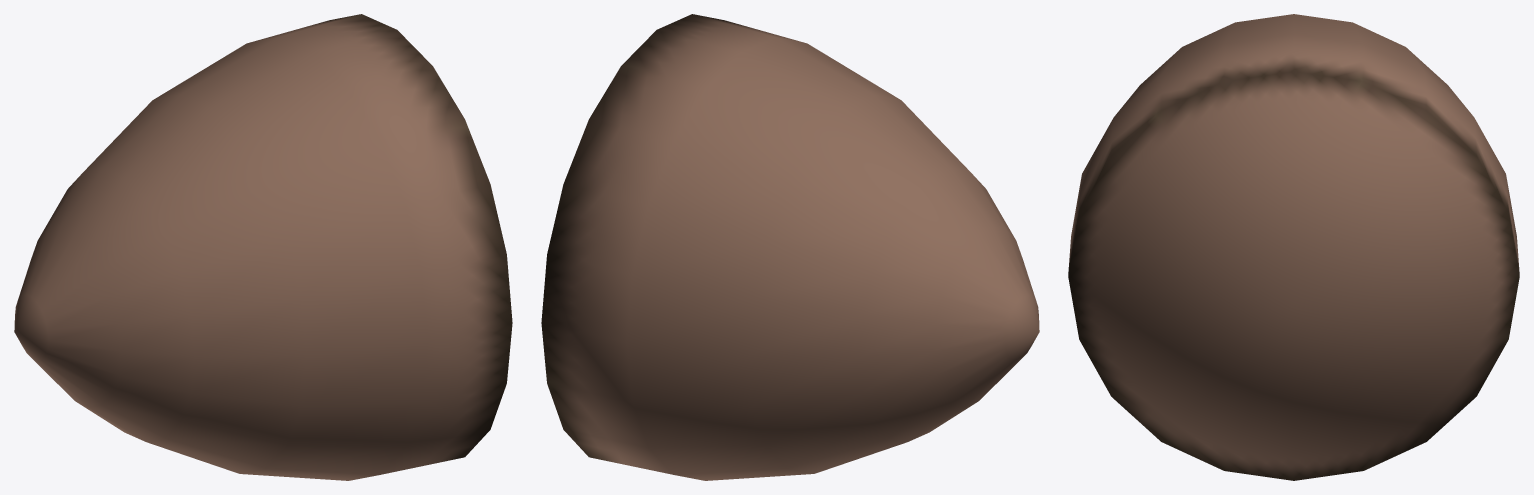
The model's file is sm_projectile_bullet_gun_02.fbx.
3 renders of one model, left to right at view 1: azimuth 30°, elevation 25°; view 2: azimuth 150°, elevation 25°; view 3: azimuth 270°, elevation 25°, orthographic. The views are drawn at different scales.
Visible parts, largest first — view 1: sm_projectile_bullet_gun_02; view 2: sm_projectile_bullet_gun_02; view 3: sm_projectile_bullet_gun_02.
Boxes of the visible parts, x1,y1,x2,y2 form: sm_projectile_bullet_gun_02: [14, 14, 512, 480]; sm_projectile_bullet_gun_02: [541, 14, 1039, 480]; sm_projectile_bullet_gun_02: [1068, 14, 1519, 480].
Size of the model in its own units: 4.39 by 3.95 by 3.95.
